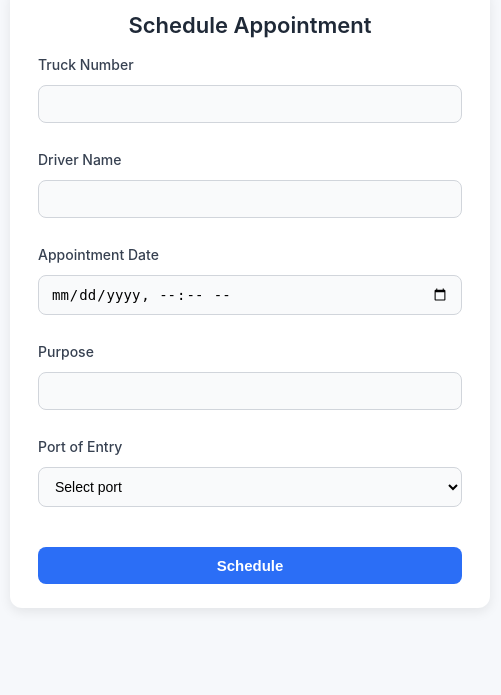
Scenario: AppointmentForm › shows error when thunk throws
In the field labelled "Truck Number": (250, 104) [38,85,462,123], type "TRK-1001"
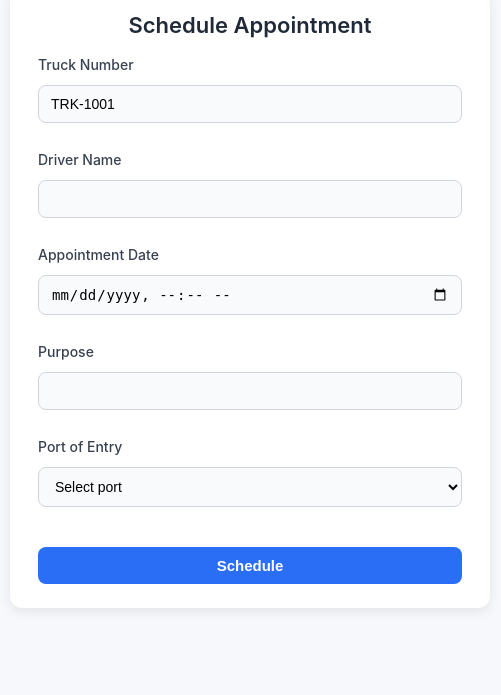
In the field labelled "Driver Name": (250, 199) [38,180,462,218], type "John Doe"
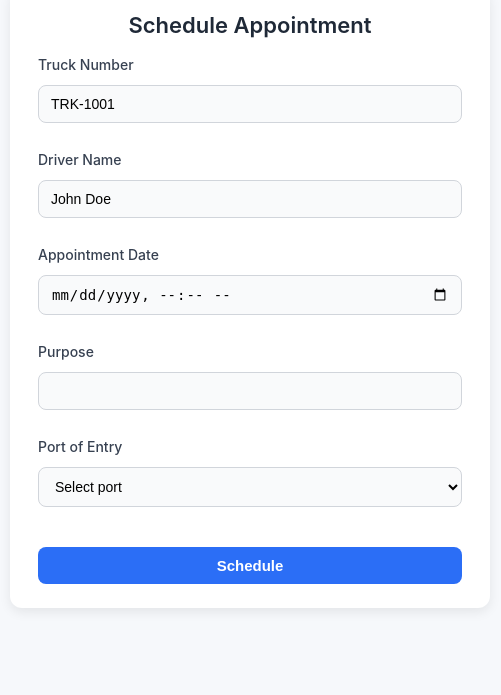
In the field labelled "Appointment Date": (250, 295) [38,275,462,315], type "2026-05-10T10:00"
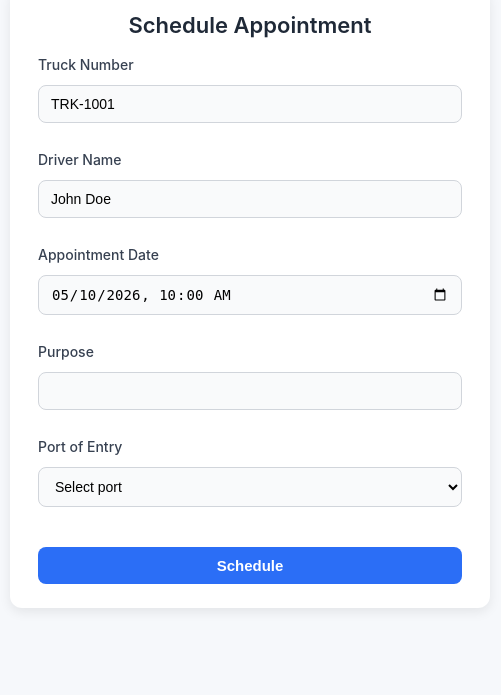
In the field labelled "Purpose": (250, 391) [38,372,462,410], type "Delivery"
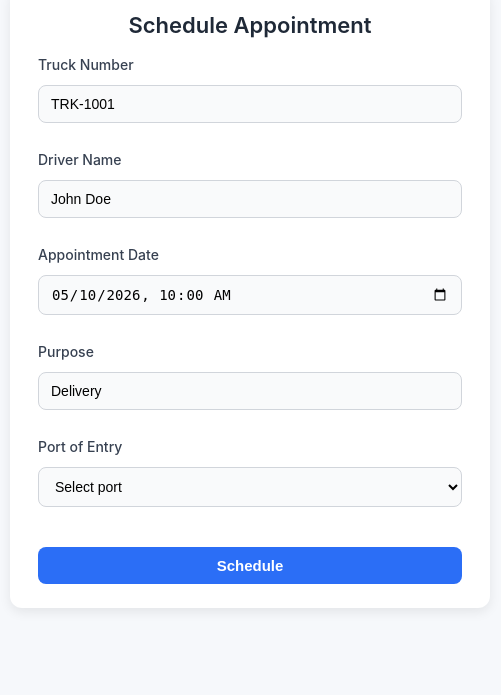
Select "Port A" in the dropdown labelled "Port of Entry": (250, 487) [38,467,462,507]
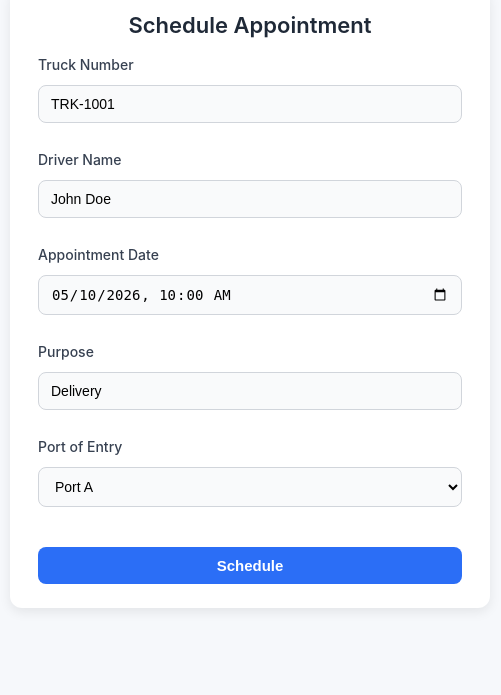
Click the button "Schedule": (250, 566) [38,547,462,584]
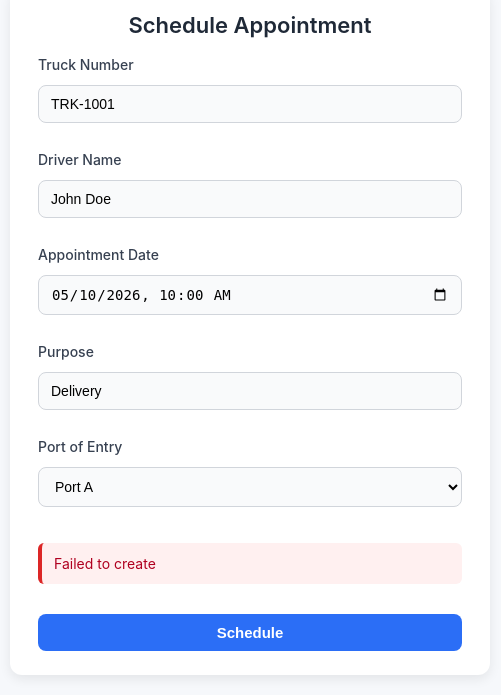
Expected: the text "Failed to create" is shown, [38,543,462,584]
